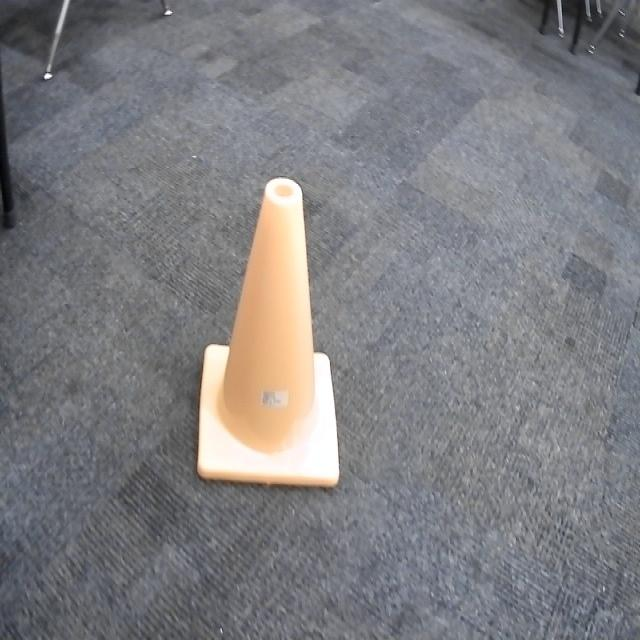cone: (196, 169, 342, 493)
